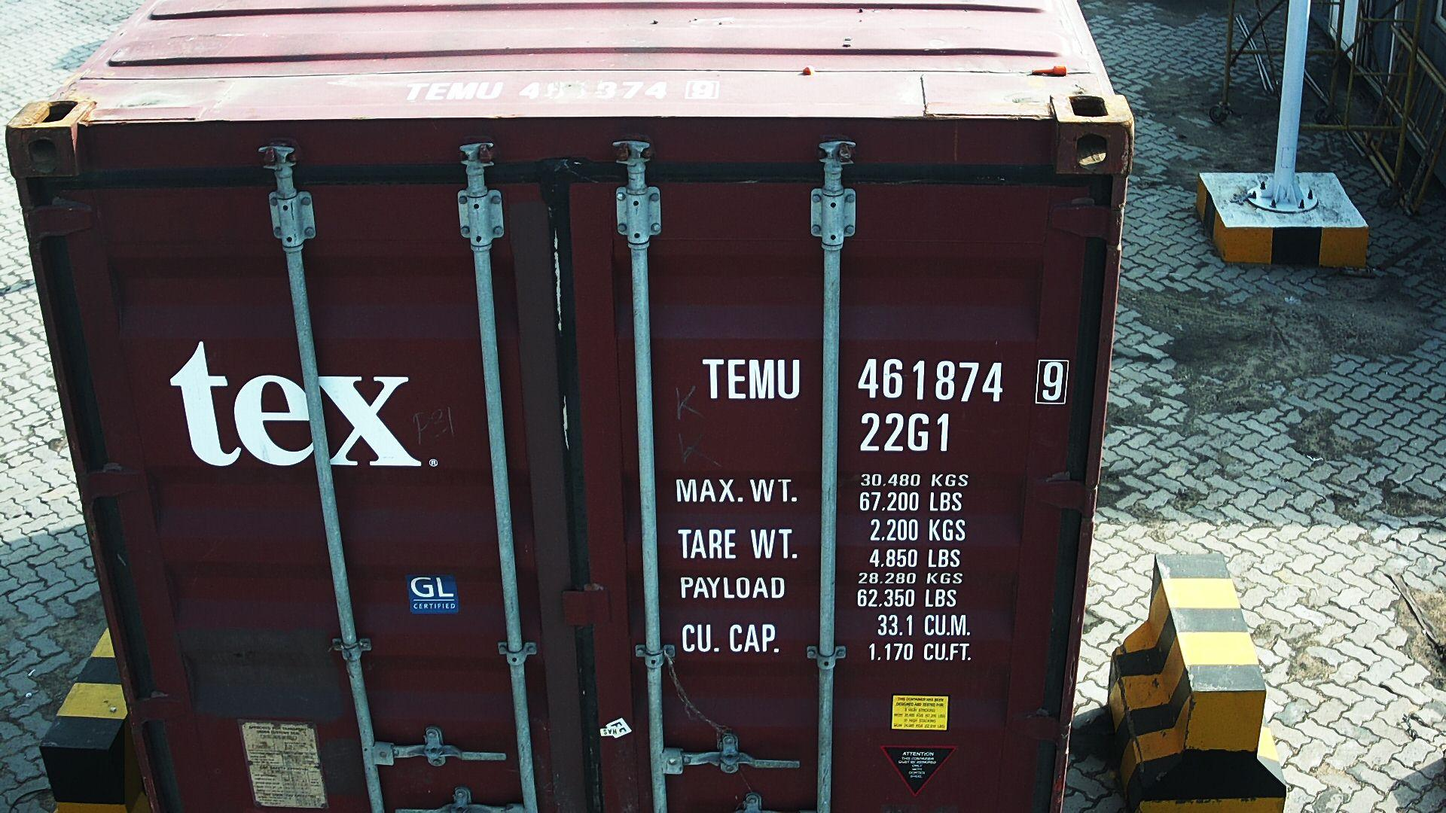container-numbers: (700, 353, 1075, 408), (401, 77, 731, 103), (855, 410, 954, 455)
